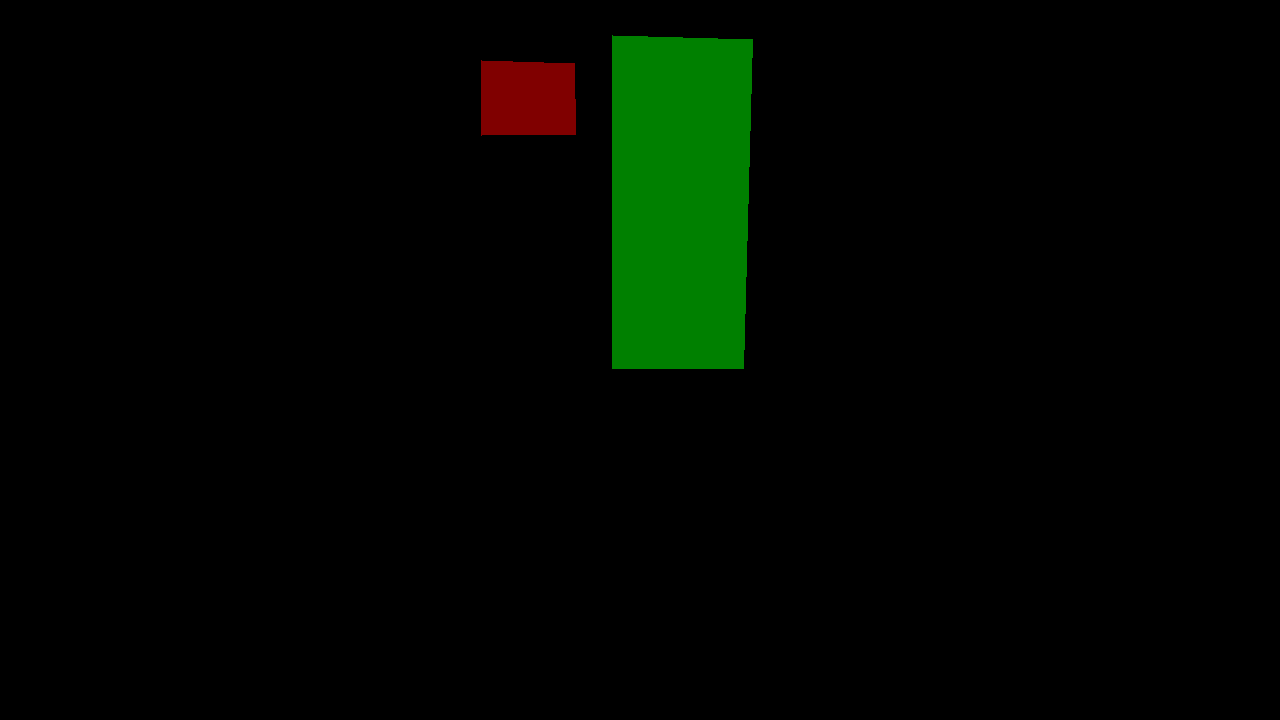door: (612, 35, 752, 368)
sign: (481, 60, 575, 135)
